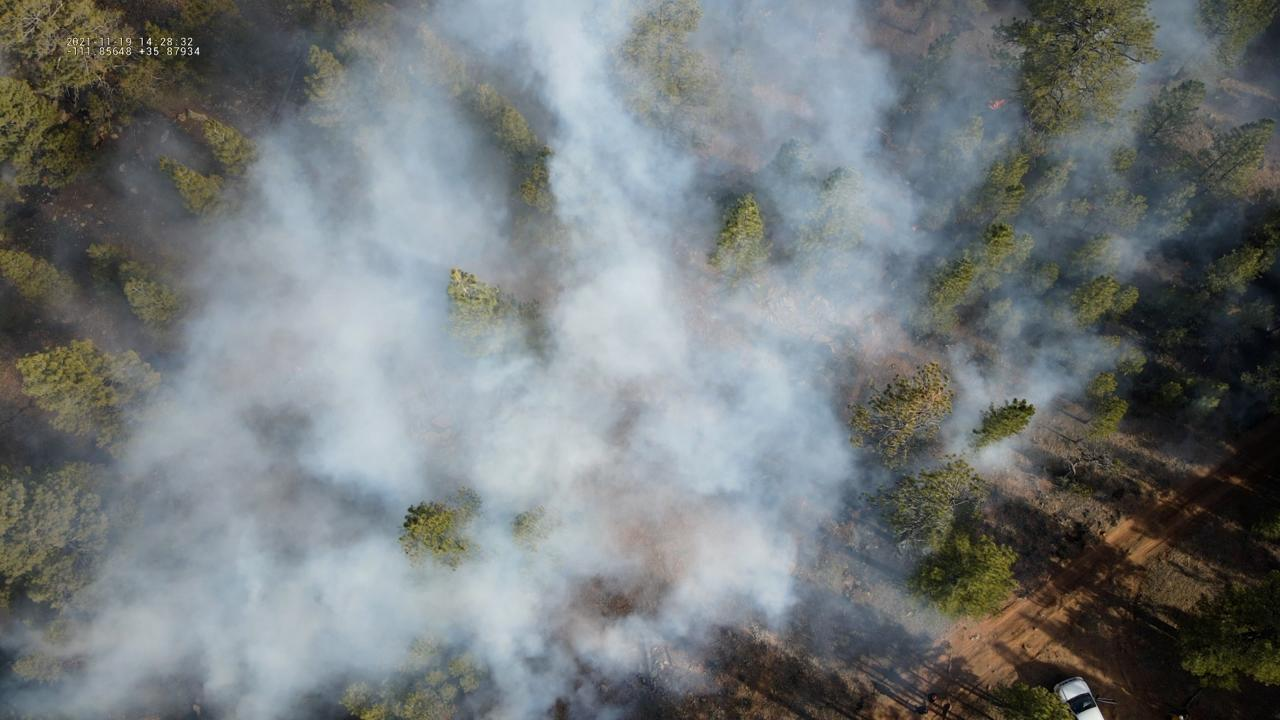fire: (987, 96, 1007, 111), (911, 224, 920, 234)
smoke: (0, 0, 1280, 720)
